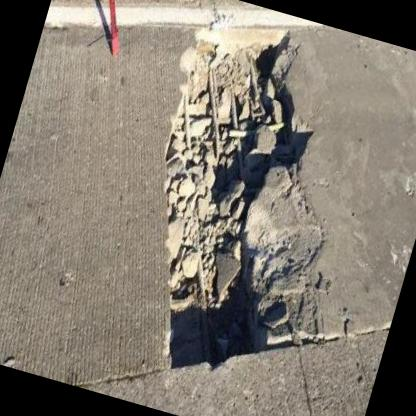pothole: (99, 0, 362, 399)
